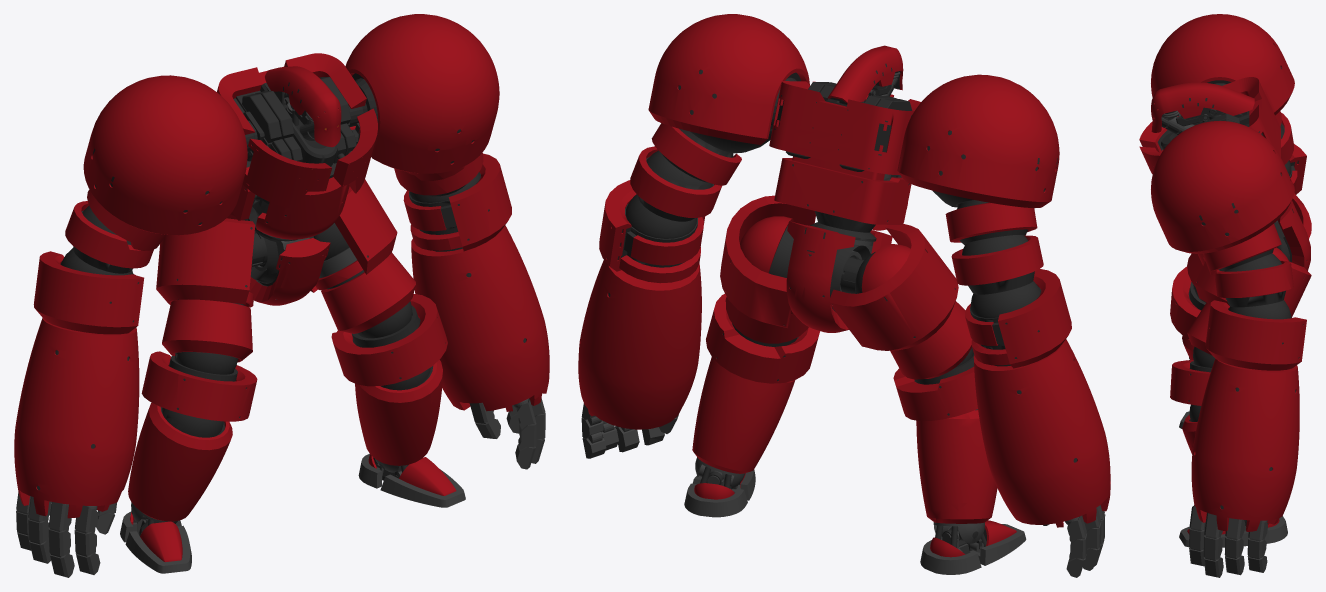
Rendered from Heavy Robot.FBX.
3 renders of one model, left to right at view 1: azimuth 30°, elevation 25°; view 2: azimuth 150°, elevation 25°; view 3: azimuth 270°, elevation 25°, orthographic. The views are drawn at different scales.
Visible parts, largest first — view 1: Object079, Componen21, Object083, Object038, Group01, Object068, Object082, Object081, Object080, Object040, Object077, Object047 (+4 smaller); view 2: Object079, Componen21, Object083, Object038, Group01, Object082, Object068, Object081, Object080, Object057, Object047, Object040 (+3 smaller); view 3: Object083, Object038, Componen21, Object069, Group01, Object068, Object081, Object047, Object040, Object077, Object082, Object079 (+6 smaller).
Boxes of the visible parts, <box> form: Object079: <box>14,248,144,518</box>; Componen21: <box>65,75,247,273</box>; Object083: <box>403,153,549,411</box>; Object038: <box>345,14,499,196</box>; Group01: <box>16,78,545,557</box>; Object068: <box>217,53,377,208</box>; Object082: <box>156,218,255,374</box>; Object081: <box>311,179,415,338</box>; Object080: <box>355,360,442,472</box>; Object040: <box>331,294,447,386</box>; Object077: <box>141,351,257,421</box>; Object047: <box>227,207,330,305</box>; Object079: <box>965,269,1110,527</box>; Componen21: <box>897,74,1059,294</box>; Object083: <box>578,180,704,429</box>; Object038: <box>630,14,809,221</box>; Group01: <box>581,77,1105,574</box>; Object082: <box>830,223,973,379</box>; Object068: <box>769,81,920,174</box>; Object081: <box>720,195,815,343</box>; Object080: <box>692,357,795,489</box>; Object057: <box>774,156,911,232</box>; Object047: <box>786,221,892,332</box>; Object040: <box>706,293,819,383</box>; Object083: <box>1191,300,1306,531</box>; Object038: <box>1151,121,1294,307</box>; Componen21: <box>1151,14,1294,164</box>; Object069: <box>1151,82,1254,132</box>; Group01: <box>1182,83,1287,560</box>; Object068: <box>1139,77,1280,173</box>; Object081: <box>1187,247,1311,367</box>; Object047: <box>1198,200,1310,270</box>; Object040: <box>1170,360,1211,405</box>; Object077: <box>1170,266,1205,339</box>; Object082: <box>1187,193,1311,302</box>; Object079: <box>1284,144,1306,194</box>.
Size of the model in its own units: 1857 by 1600 by 612.
